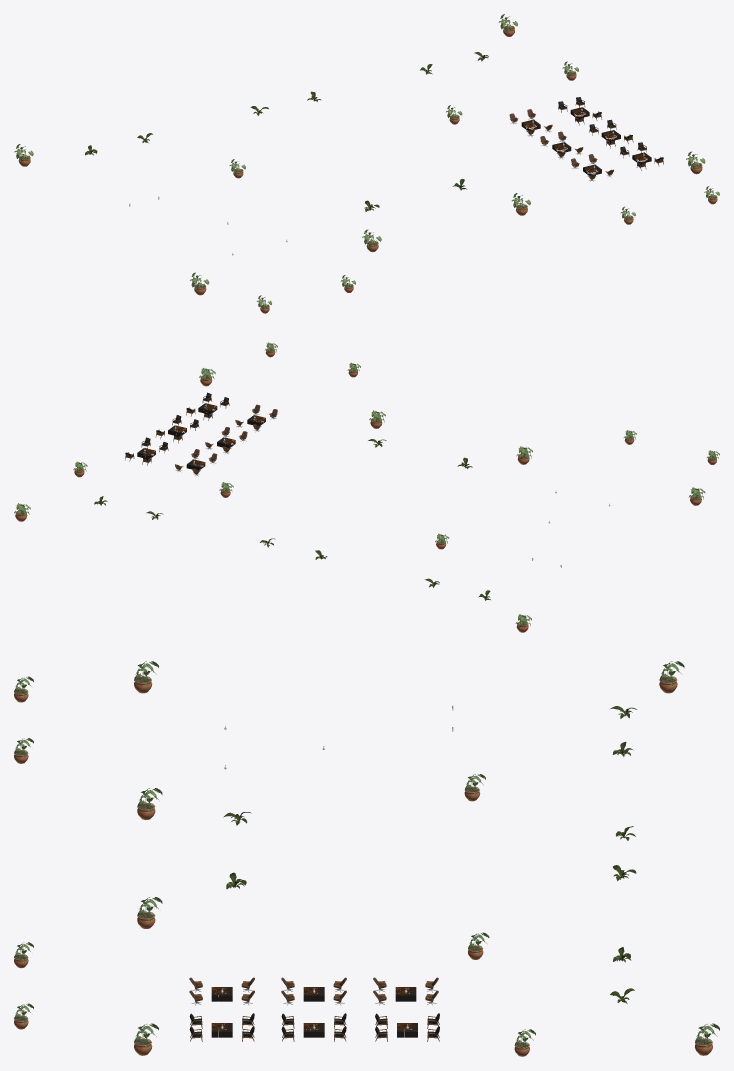
The model's file is lobby_ext.glb.
The picture shows the model from 3 angles, top to bottom: view 1: azimuth 30°, elevation 25°; view 2: azimuth 150°, elevation 25°; view 3: azimuth 270°, elevation 25°; orthographic projection. The views are drawn at different scales.
Parts seen in each view (by area): view 1: ext; view 2: ext; view 3: ext.
Part boxes in pixels (x1,y1,x2,y2): ext: (14, 14, 719, 313); ext: (14, 342, 719, 632); ext: (14, 661, 719, 1056).
Size of the model in its own units: 54.94 by 2.15 by 43.81.
Materials: 93 (93 with a texture image).
